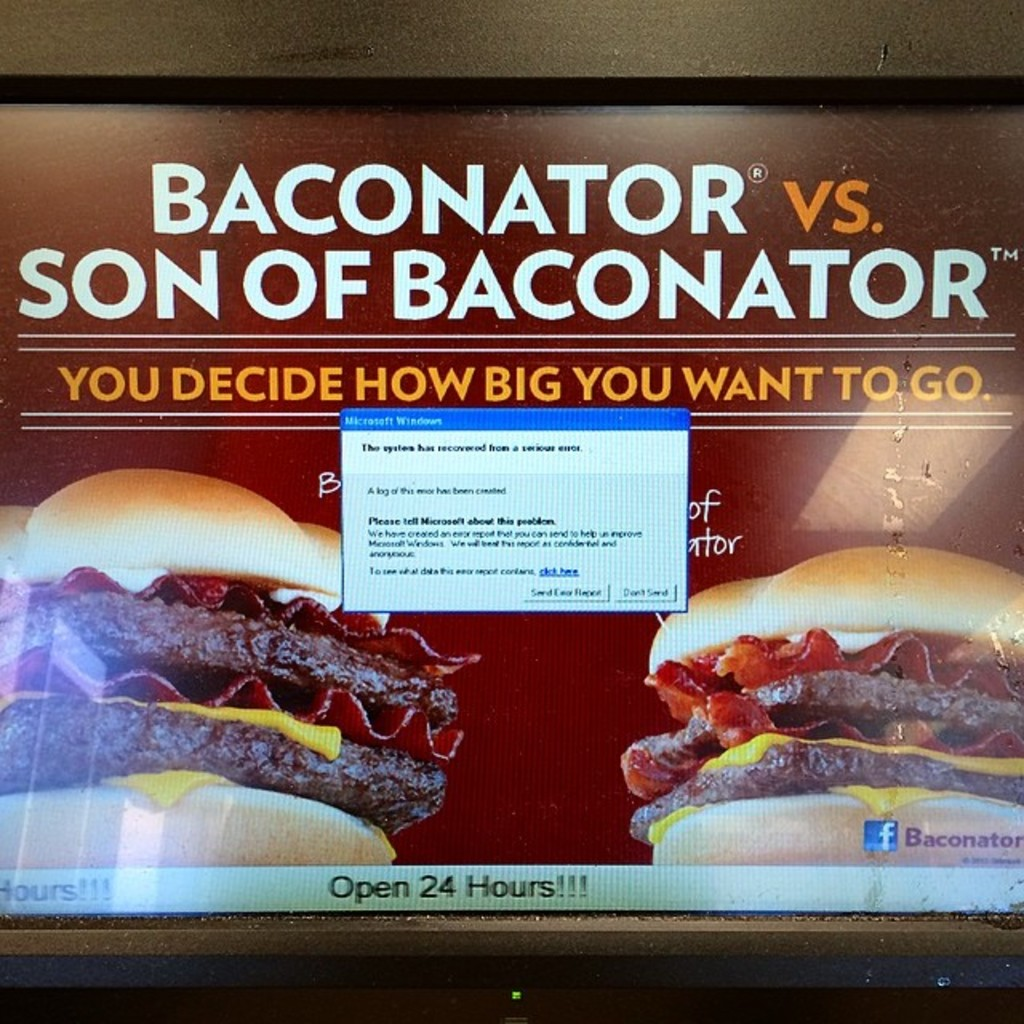Hamburger: (0, 468, 480, 868), (617, 547, 1022, 871)
